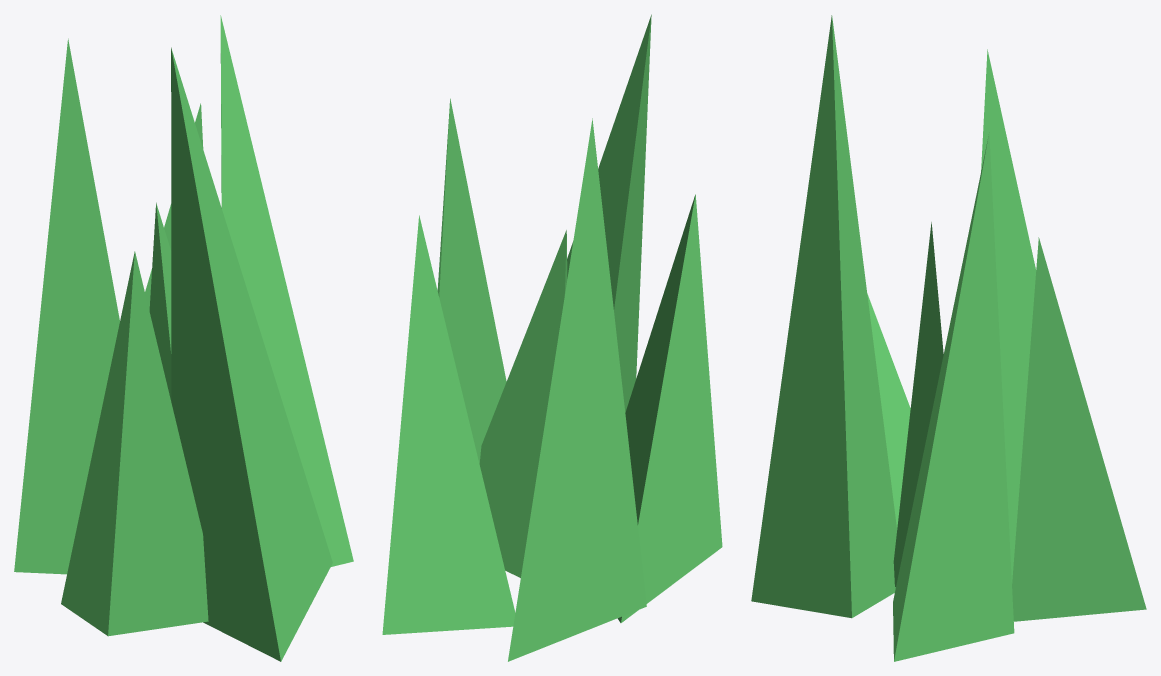
Rendered from grass.fbx.
3 views of the same model, side by side, from view 1: azimuth 30°, elevation 25°; view 2: azimuth 150°, elevation 25°; view 3: azimuth 270°, elevation 25° (orthographic). The views are drawn at different scales.
Parts seen in each view (by area): view 1: Cone.001, Cone.005, Cone.003, Cone, Cone.002, Cone.004; view 2: Cone.003, Cone.004, Cone.005, Cone.002, Cone, Cone.001; view 3: Cone.001, Cone, Cone.004, Cone.003, Cone.002, Cone.005.
Part boxes in pixels (<box>): Cone.001: <box>171,47,332,661</box>; Cone.005: <box>61,251,208,636</box>; Cone.003: <box>14,38,119,574</box>; Cone: <box>220,15,353,566</box>; Cone.002: <box>149,202,171,400</box>; Cone.004: <box>145,103,203,310</box>; Cone.003: <box>508,118,646,661</box>; Cone.004: <box>382,215,515,634</box>; Cone.005: <box>617,194,722,622</box>; Cone.002: <box>479,230,567,577</box>; Cone: <box>437,98,506,463</box>; Cone.001: <box>567,14,651,412</box>; Cone.001: <box>751,15,896,618</box>; Cone: <box>893,133,1014,661</box>; Cone.004: <box>1012,237,1146,621</box>; Cone.003: <box>981,49,1036,583</box>; Cone.002: <box>893,222,943,586</box>; Cone.005: <box>867,294,910,529</box>.
Bounding box in the file's own units: 103 × 202 × 130.
